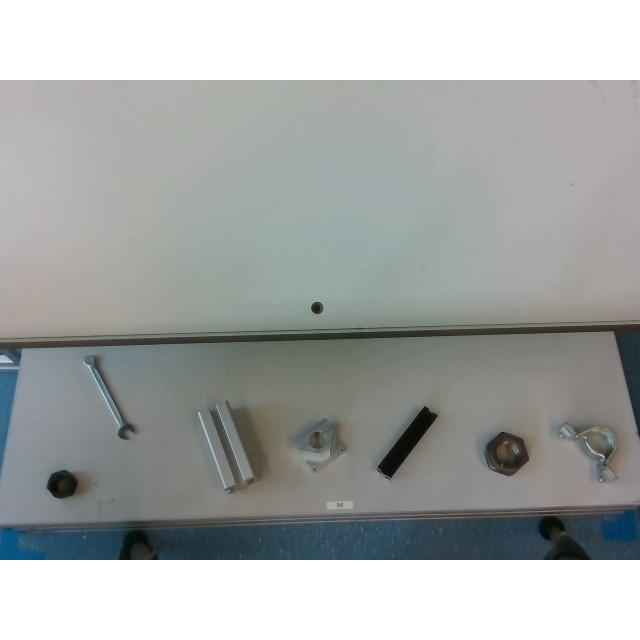F20_20_B: (376, 406, 436, 478)
Housing: (555, 422, 617, 482)
M20: (46, 469, 78, 498)
M30: (484, 432, 528, 476)
S40_40_G: (197, 401, 256, 491)
